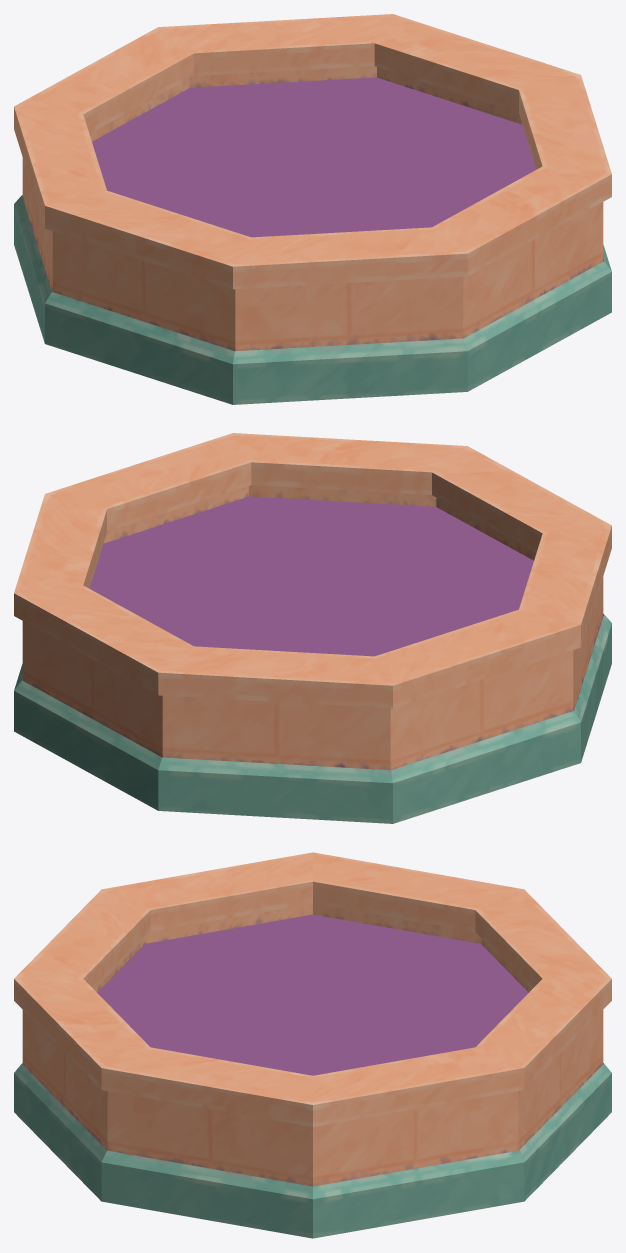
The model's file is vat_plum_low.fbx.
3 renders of one model, top to bottom at view 1: azimuth 30°, elevation 25°; view 2: azimuth 150°, elevation 25°; view 3: azimuth 270°, elevation 25°, orthographic. The views are drawn at different scales.
Parts seen in each view (by area): view 1: vat_plum; view 2: vat_plum; view 3: vat_plum.
Part boxes in pixels (left/top/right/bottom): vat_plum: left=14, top=14, right=611, bottom=404; vat_plum: left=14, top=433, right=611, bottom=823; vat_plum: left=14, top=852, right=611, bottom=1238.
Bounding box in the file's own units: 6.9 × 1.7 × 6.9.
Materials: 1 (1 with a texture image).
